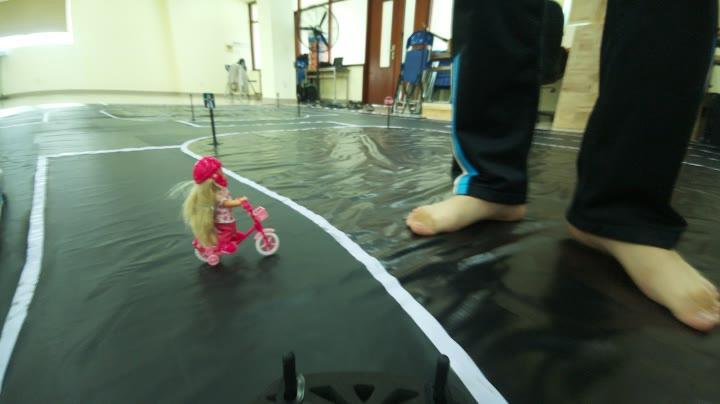pedestrian: (166, 162, 287, 268)
